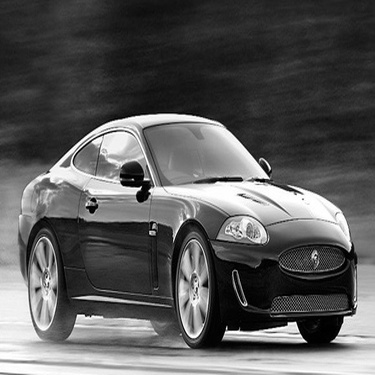car: (11, 104, 356, 353)
